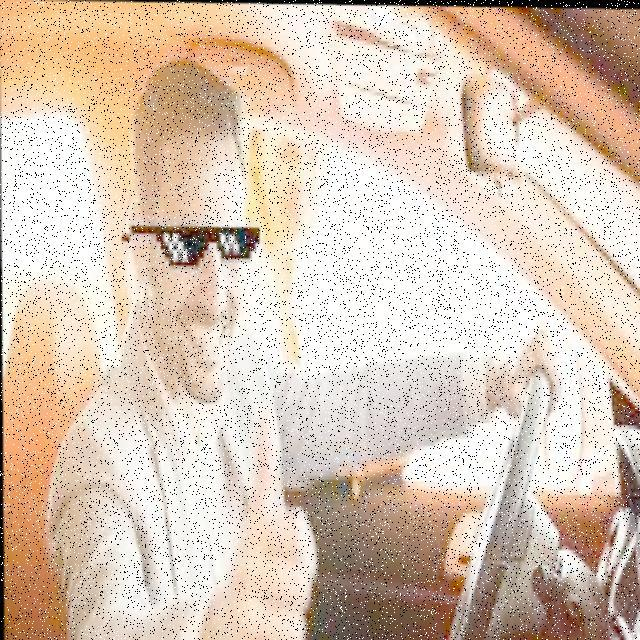noSeatbelt: (42, 290, 308, 640)
